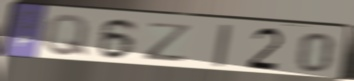0: (296, 31, 338, 74)
2: (246, 27, 286, 72)
6: (97, 17, 139, 61)
I: (211, 23, 233, 69)
Q: (43, 13, 91, 59)
Z: (144, 21, 195, 64)
